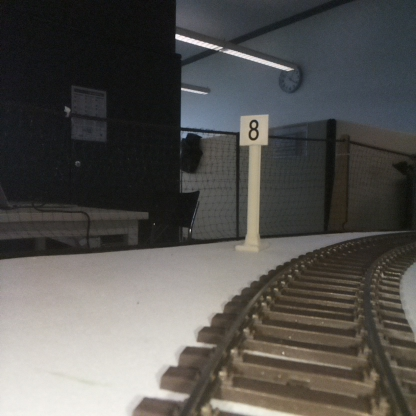white-info-8: (240, 114, 268, 250)
